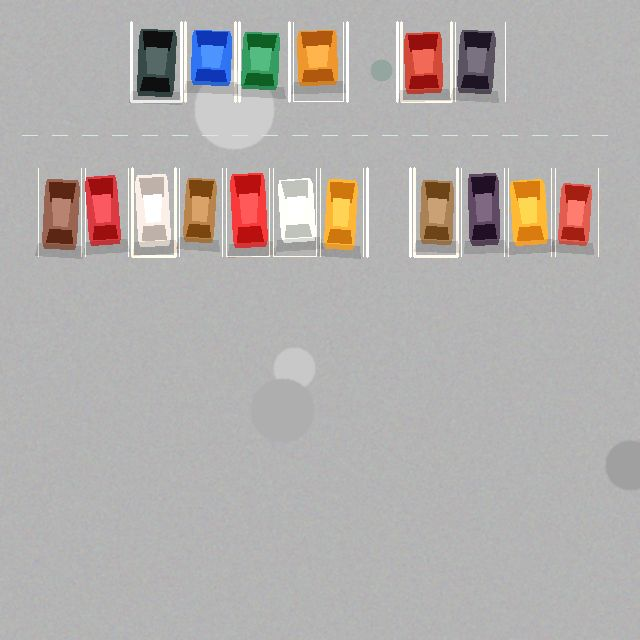space-empty: (347, 22, 397, 101), (367, 168, 410, 256)
space-occupied: (131, 22, 181, 101), (185, 22, 235, 101), (239, 22, 289, 101), (293, 22, 343, 101), (401, 22, 451, 101), (455, 22, 505, 101), (38, 168, 81, 256), (85, 168, 128, 256), (132, 168, 175, 256), (179, 168, 222, 256), (226, 168, 269, 256), (273, 168, 316, 256), (320, 168, 363, 256), (414, 168, 457, 256), (461, 168, 504, 256), (508, 168, 551, 256), (555, 168, 598, 256)
